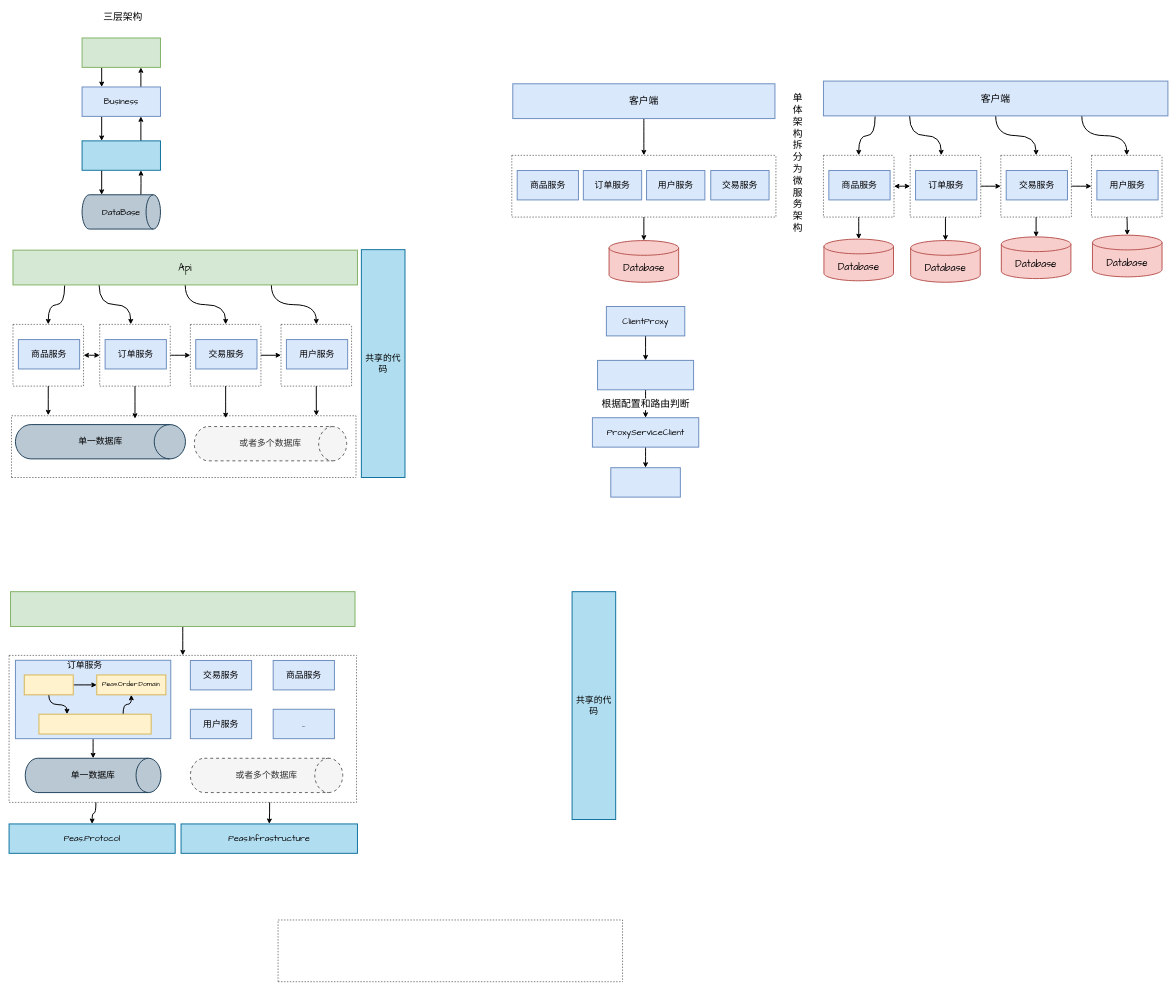
The diagram is 1176 pixels wide and 990 high, and some of its shapes have lost their labels. Each missing label, with the centre of its shape:
"Bootsrapper/Host" belongs at (182,609).
"Create<ServiceType>" belongs at (645,375).
"DataAccess" belongs at (121,155).
"Peas.Order" belongs at (49,684).
"Peas.Order.Infrastructure" belongs at (94,723).
"Web Api" belongs at (121,52).
"调用具体的方法" belongs at (645,482).
